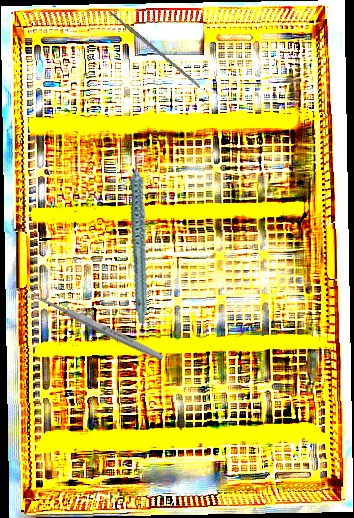Handpiece: (100, 145, 183, 324)
Scalpel Handle: (109, 9, 202, 90)
Surgical Spoon: (25, 287, 165, 363)
